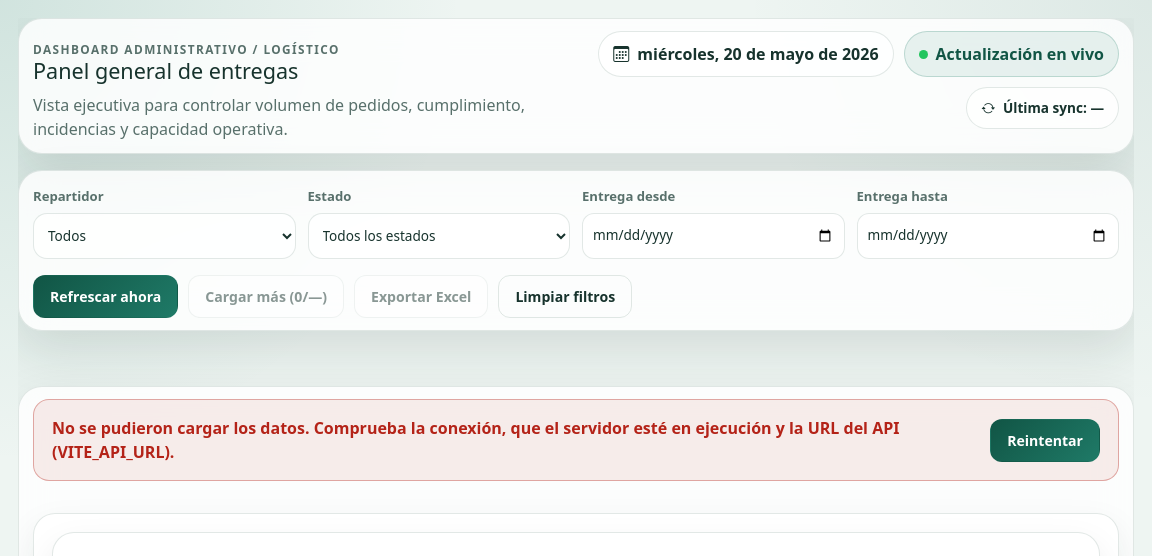
Test: DashboardApp › muestra error y permite reintentar
Check: the message is shown, box x1=33 y1=399 x2=1119 y2=481
Step 1. Click the button "Reintentar" → point(1045, 440), box x1=990 y1=419 x2=1100 y2=462
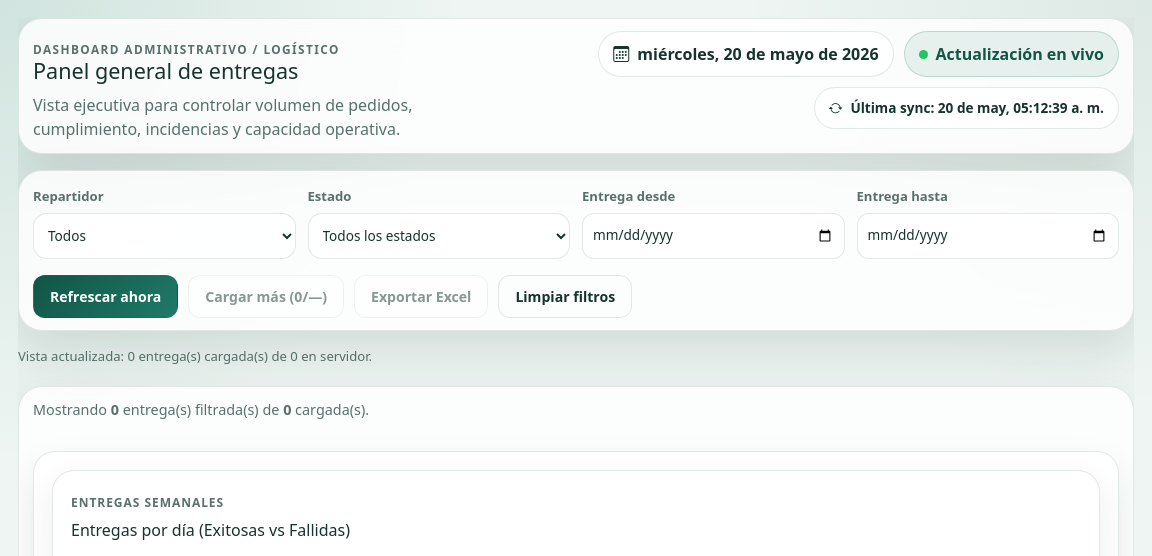
Check: the message "No se pudieron cargar los datos. Comprueba la conexión, que el servidor esté en" is gone
Check: the text "Vista actualizada: 0 entrega(s) cargada(s) de 0 en servidor." is shown, box x1=18 y1=347 x2=372 y2=365
